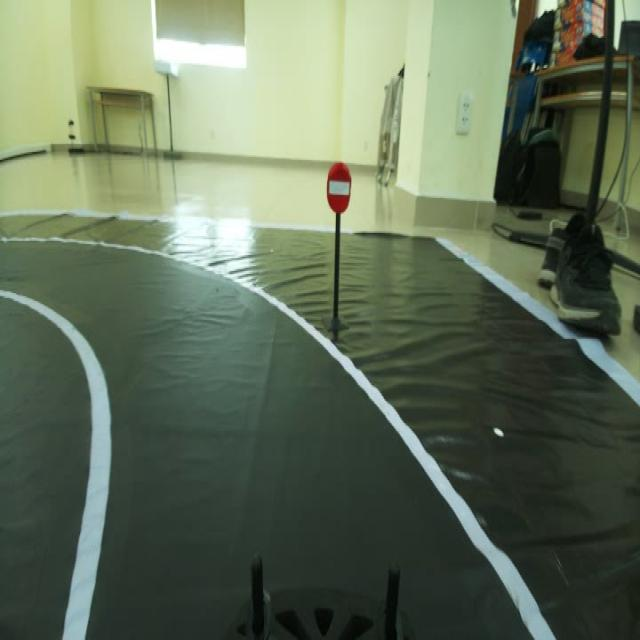no_entry: (320, 162, 358, 213)
